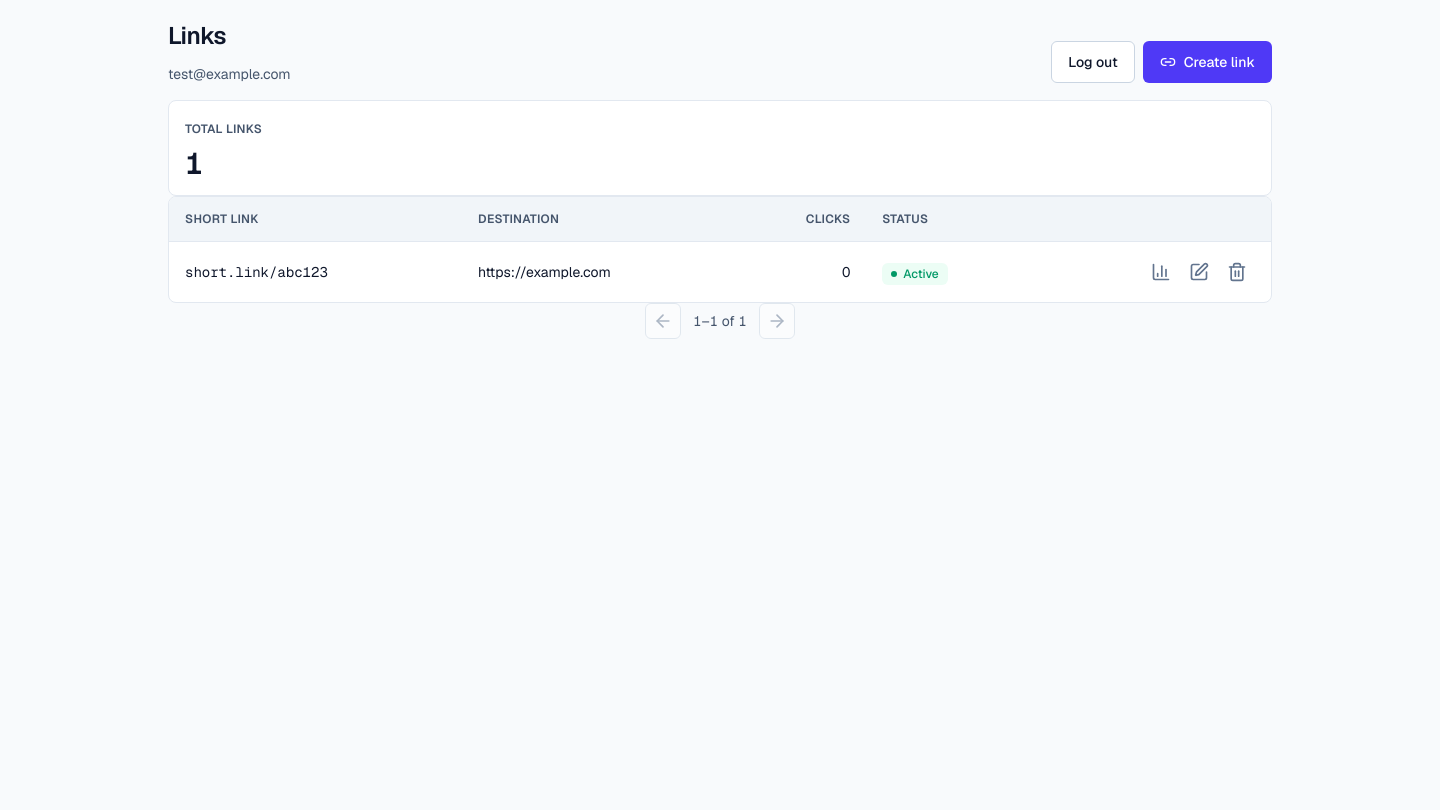
DashboardInteractive — error Toast › surfaces both the API error's message and requestId when an edit fails
This screenshot has width=1440, height=810.
Step 1. Click the button named "Edit link" → (1199, 272), box [1181,254,1217,290]
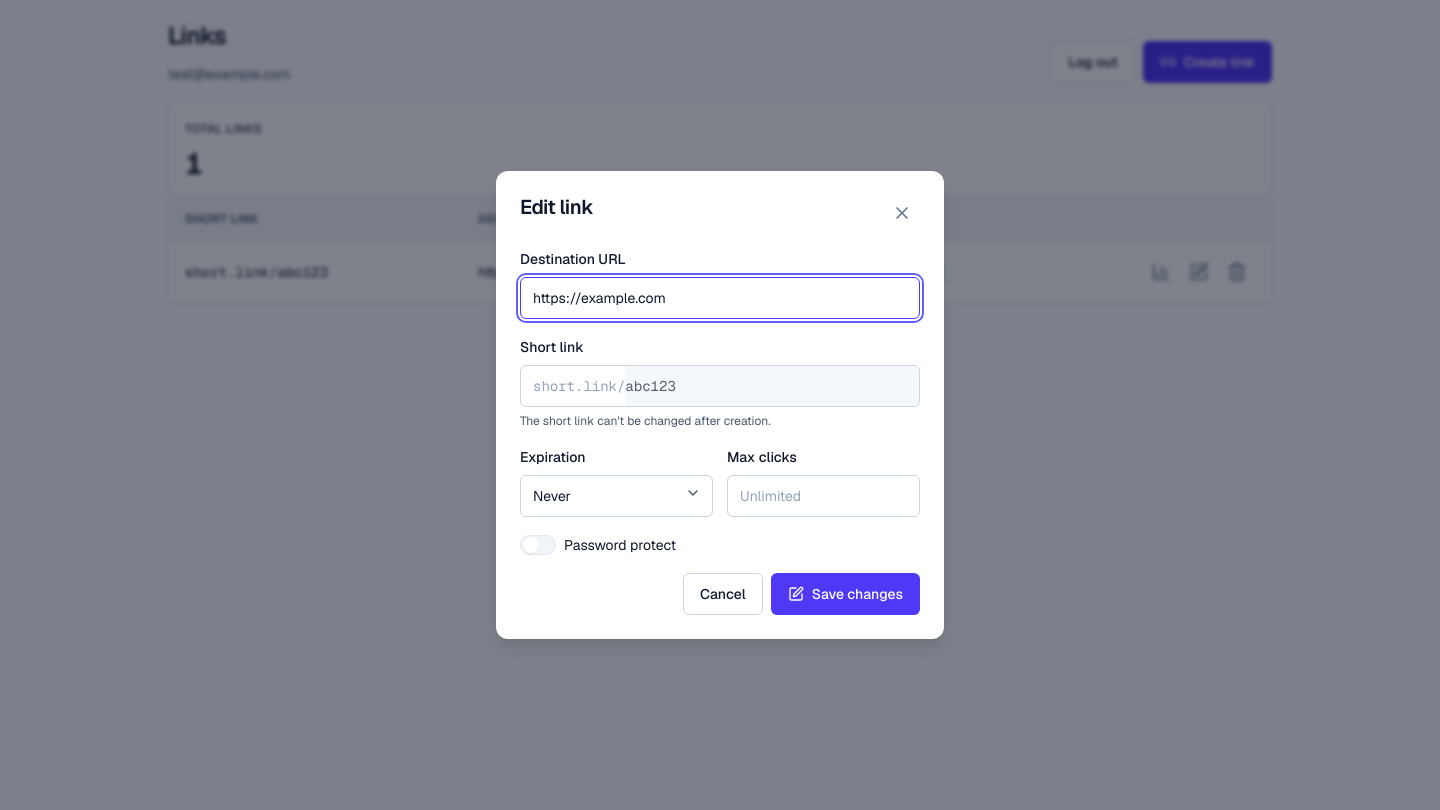
Step 2. Click the button "Save changes" → (845, 594), box [771,573,920,615]
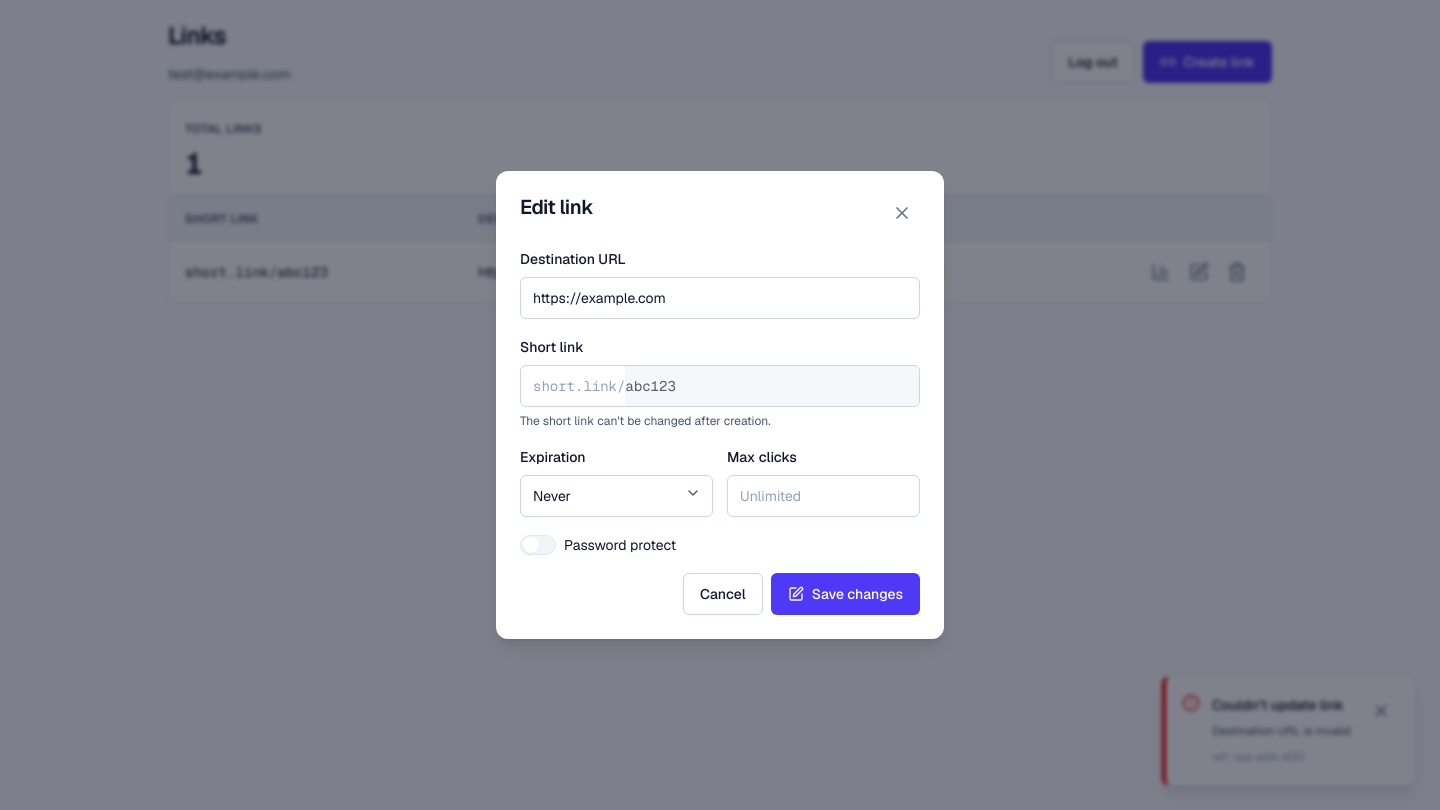
expect the message shows "Destination URL is invalid": met, box [1212,723,1351,739]
expect the message shows "ref: req-edit-400": met, box [1162,676,1416,786]
